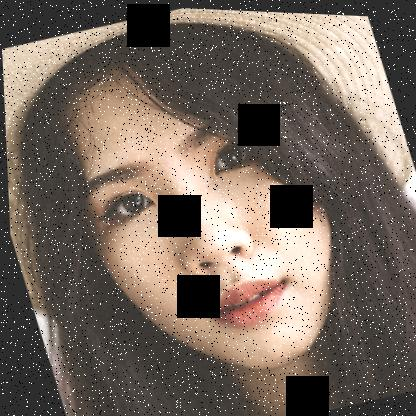Female: (45, 22, 368, 402)
